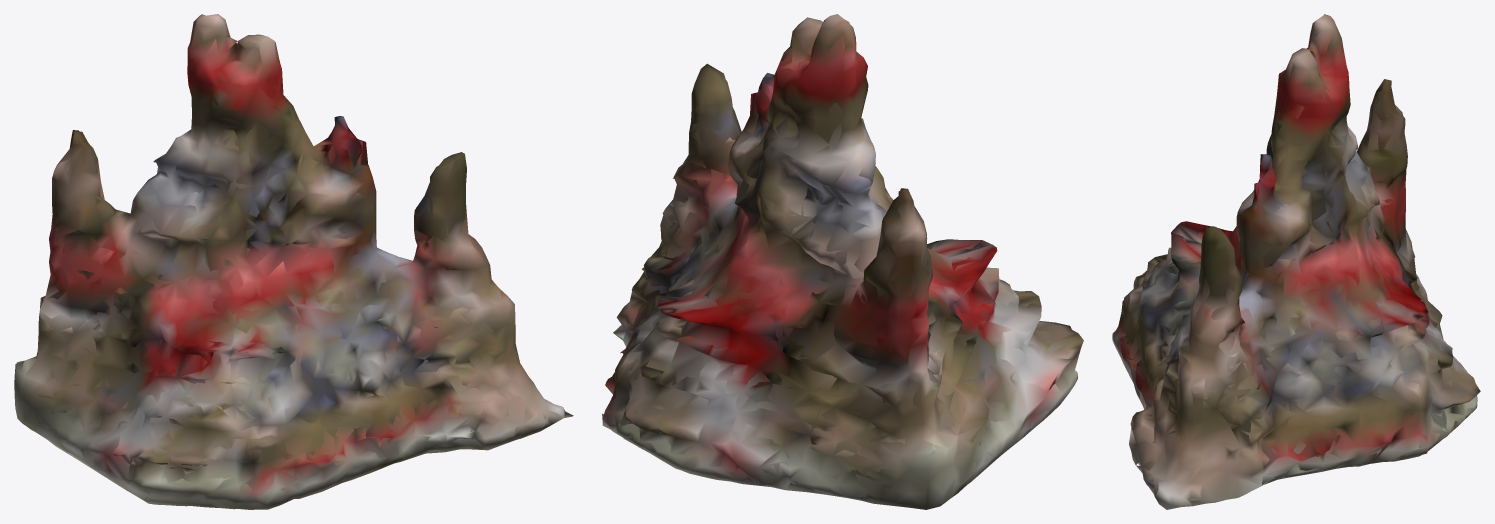
Rendered from soviet_industrial_plant.glb.
3 renders of one model, left to right at view 1: azimuth 30°, elevation 25°; view 2: azimuth 150°, elevation 25°; view 3: azimuth 270°, elevation 25°, orthographic. The views are drawn at different scales.
Parts seen in each view (by area): view 1: soviet_industrial_plant; view 2: soviet_industrial_plant; view 3: soviet_industrial_plant.
Boxes of the visible parts, x1,y1,x2,y2 form: soviet_industrial_plant: [14, 14, 573, 509]; soviet_industrial_plant: [602, 14, 1083, 509]; soviet_industrial_plant: [1112, 14, 1480, 509].
Bounding box in the file's own units: 1.75 × 1.58 × 1.42.
